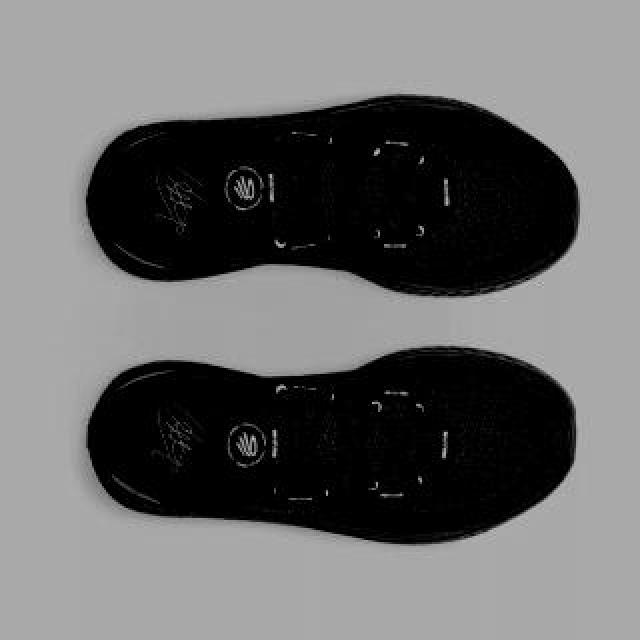shoe: (84, 94, 580, 298), (89, 345, 577, 545)
